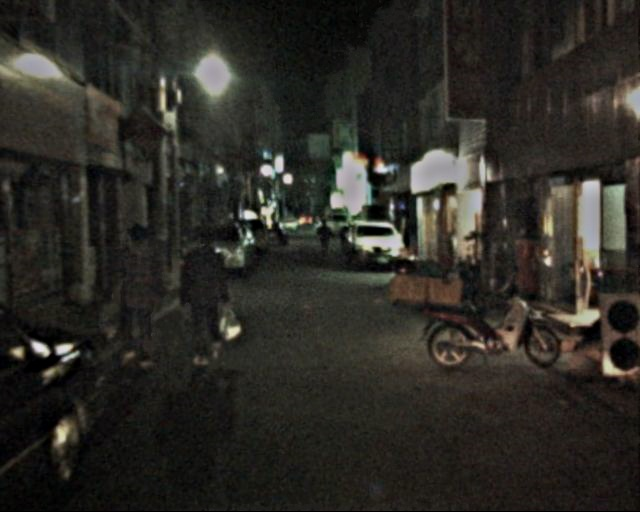person: (108, 220, 173, 371), (175, 224, 235, 371), (314, 219, 333, 261)
